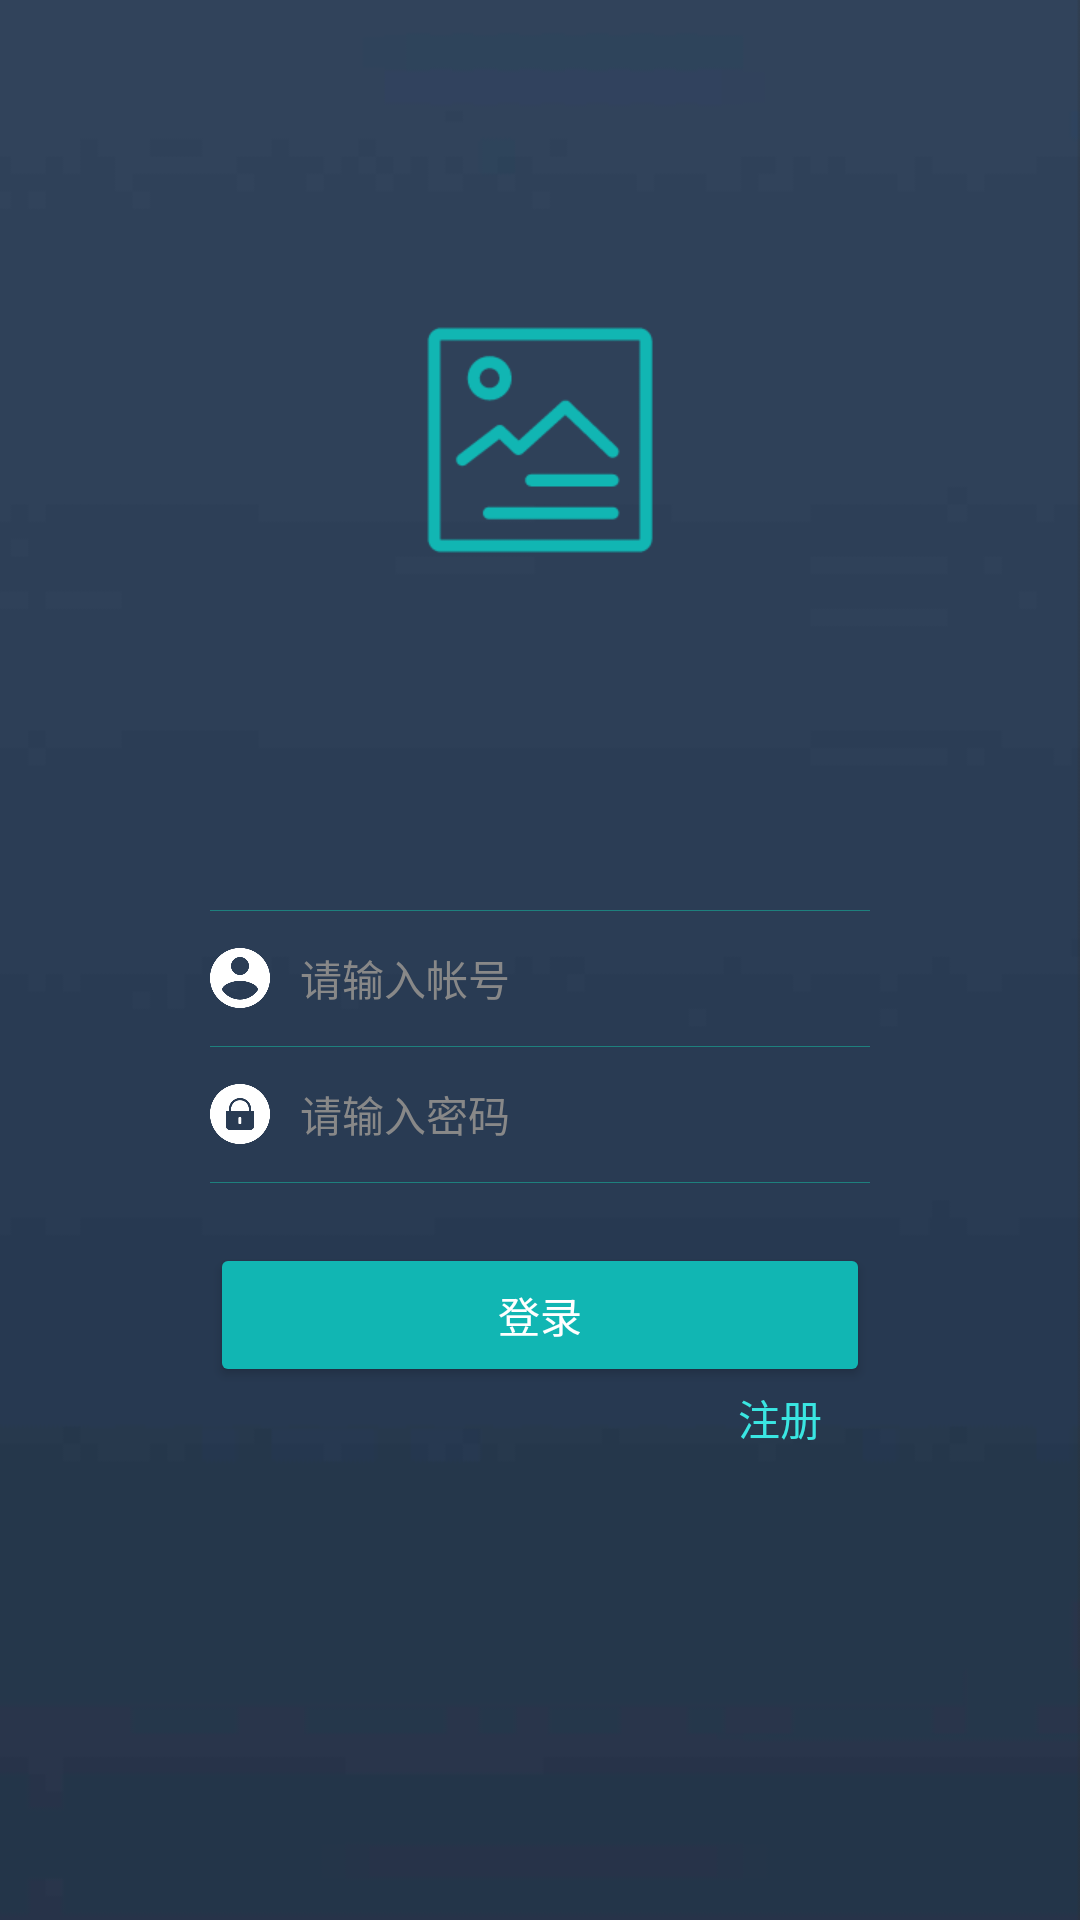

Locate icon controls on the screen. Image size 1080px×1920px, boxes as region(x1, y1, x2, y2).
accounts: region(210, 948, 270, 1008)
password: region(210, 1084, 270, 1144)
